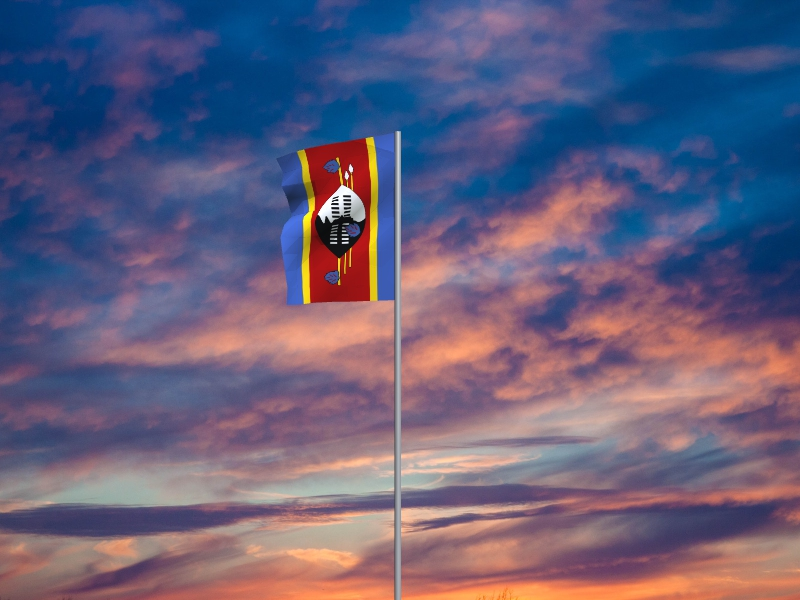sz: (275, 133, 395, 306)
